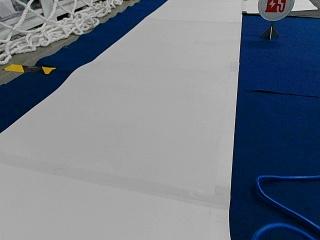battery: (258, 0, 296, 22)
